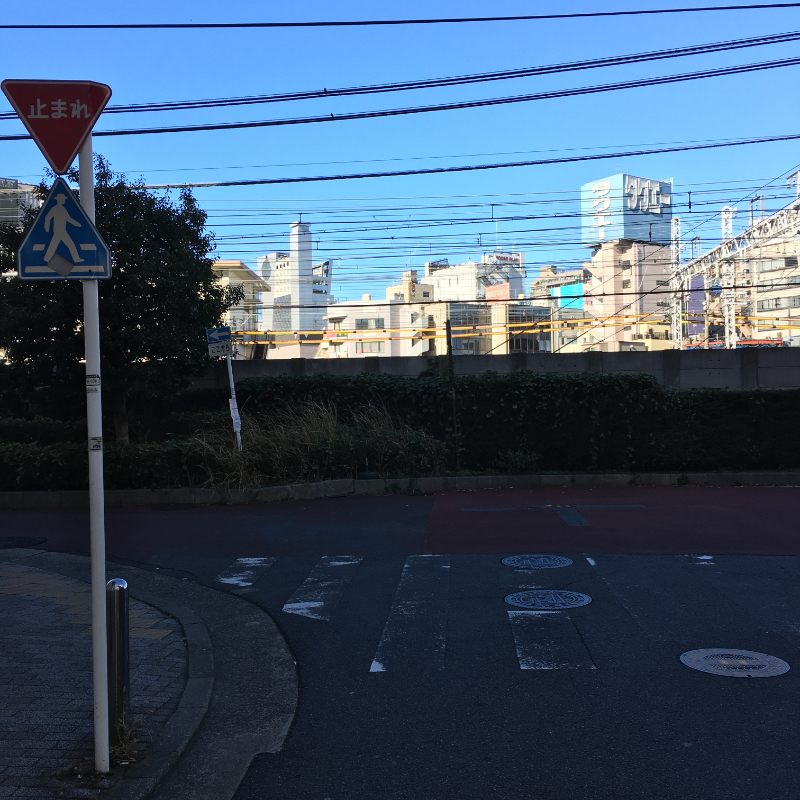STOP: (1, 78, 115, 177)
